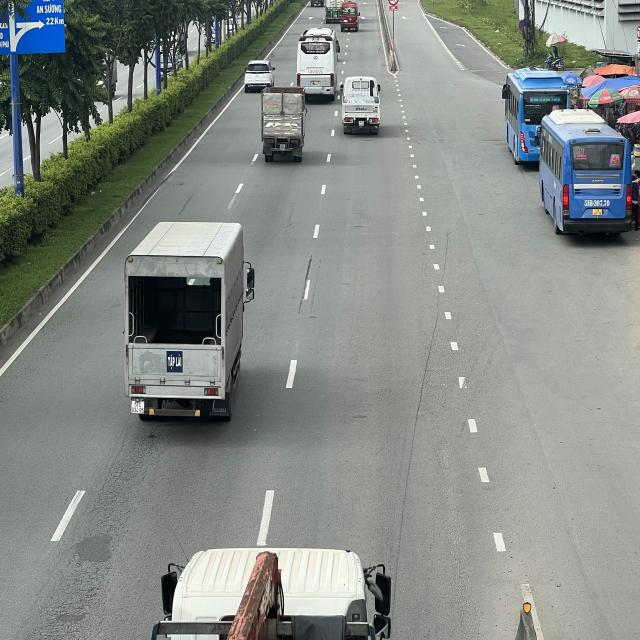car: (244, 58, 274, 89)
coach: (539, 109, 632, 237), (503, 70, 572, 164), (298, 26, 338, 98)
truck: (124, 220, 256, 424), (260, 86, 306, 158), (340, 76, 382, 132)
van: (339, 0, 360, 31)
